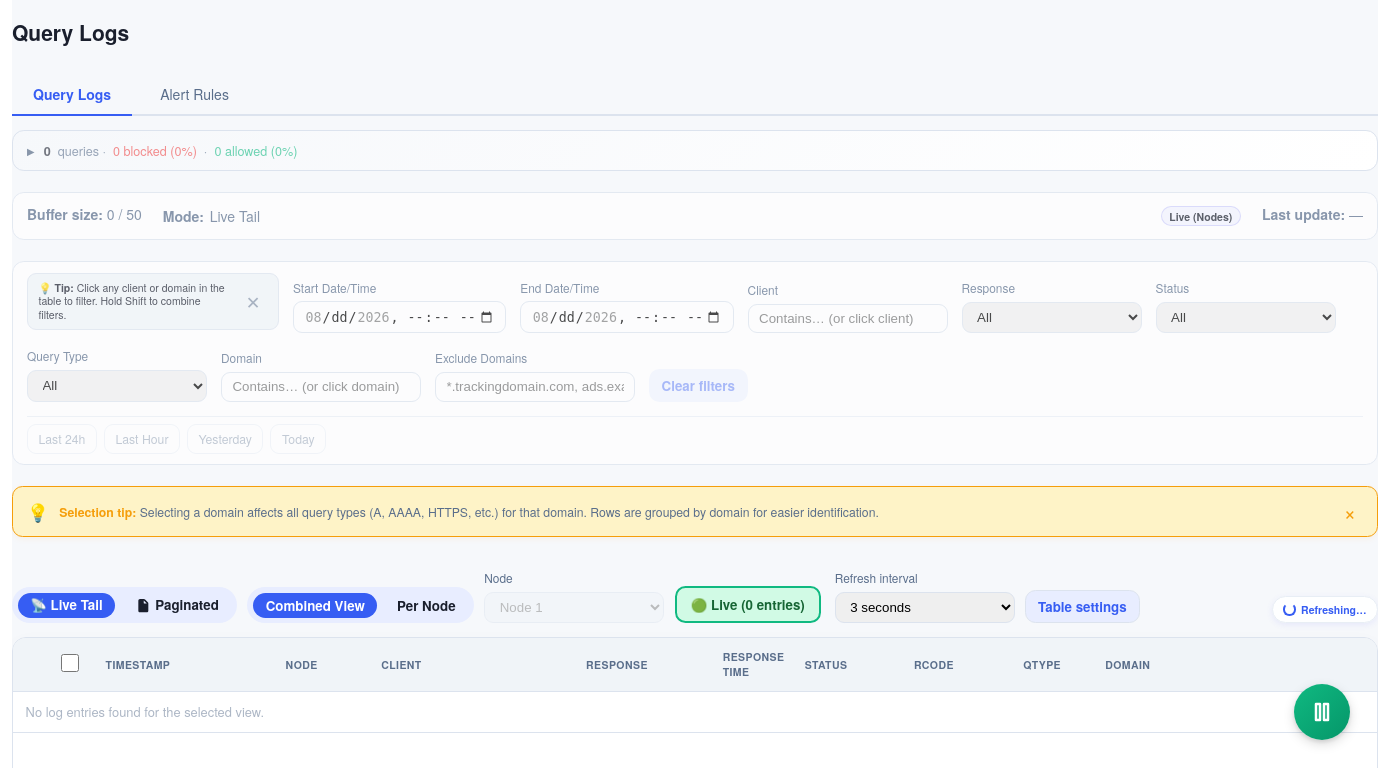
LogsPage SMTP card › pauses automatic refresh when entering paginated mode
Step 1. Click the button "Paginated" → [177, 605], box [122, 593, 231, 618]
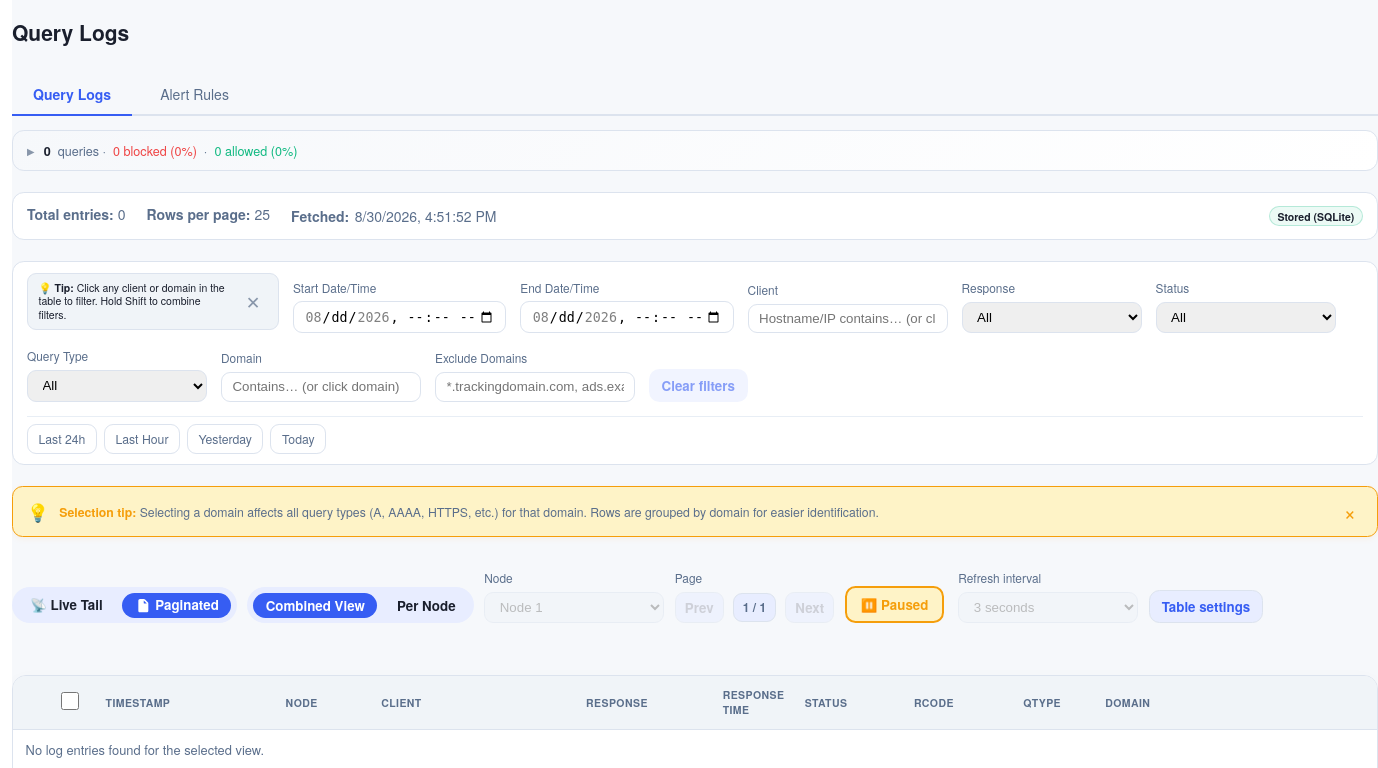
expect the button "⏸️ Paused" is shown: met, box [845, 586, 944, 623]
